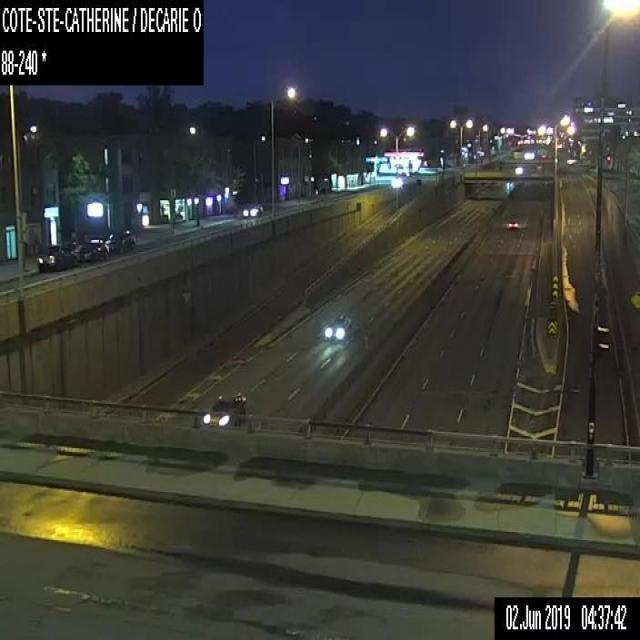vehicle: (204, 392, 246, 424), (36, 242, 76, 272), (324, 314, 352, 341), (106, 229, 135, 255), (75, 236, 105, 261), (242, 201, 262, 217), (508, 218, 517, 228)
